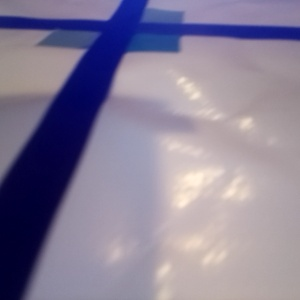bottom_right: (182, 71, 300, 127)
